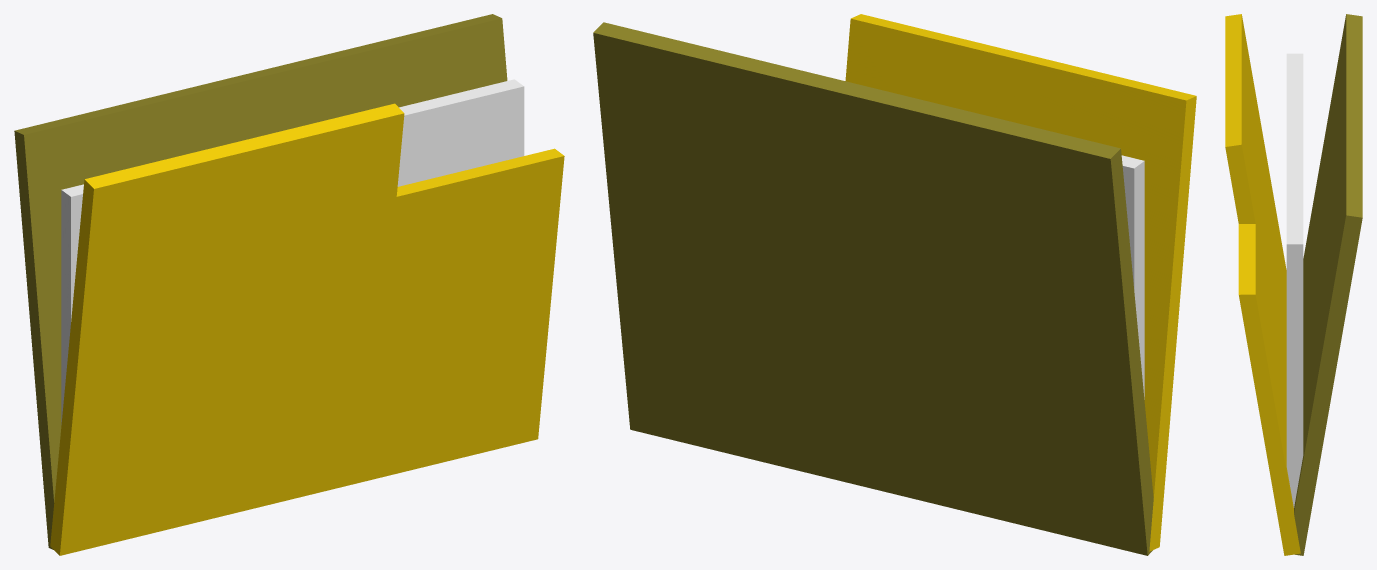
File: folder.glb
The picture shows the model from 3 angles, left to right: view 1: azimuth 30°, elevation 25°; view 2: azimuth 150°, elevation 25°; view 3: azimuth 270°, elevation 25°; orthographic projection. The views are drawn at different scales.
Visible parts, largest first — view 1: Cube.002; view 2: Cube.002; view 3: Cube.002.
Part boxes in pixels (x1,y1,x2,y2): Cube.002: (14, 14, 564, 555); Cube.002: (593, 14, 1196, 555); Cube.002: (1225, 14, 1362, 555).
Bounding box in the file's own units: 0.9865 × 0.778 × 0.2846.
3 materials, 3 textured.
